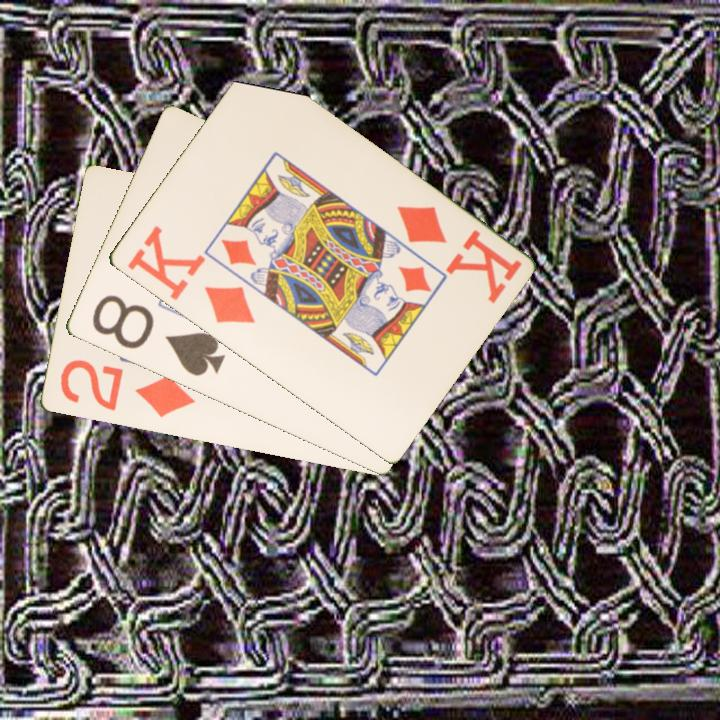2d: (56, 356, 198, 421)
8s: (88, 291, 228, 380)
Kd: (123, 222, 258, 327), (392, 202, 525, 306)
